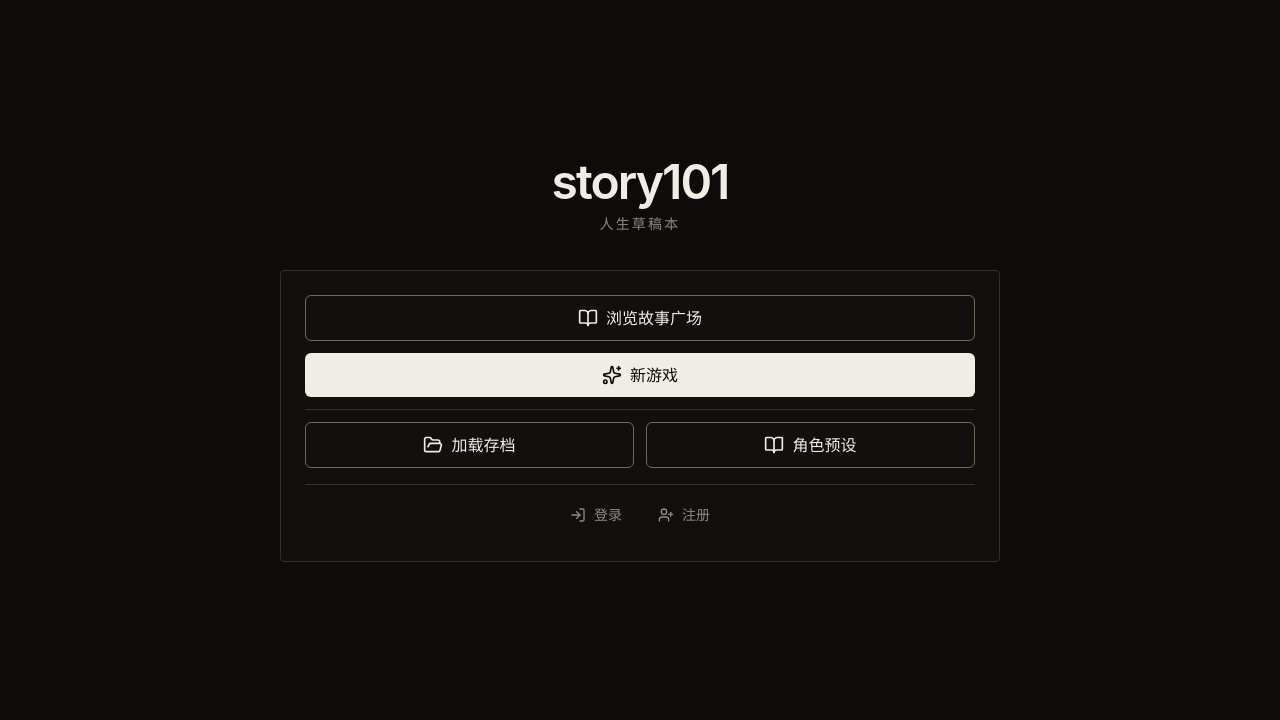
it: WelcomePage › Copy private ID feature › announces the one-time warning and copy success in one status region
Click the button "注册".
click(684, 515)  # box [642,493,726,537]
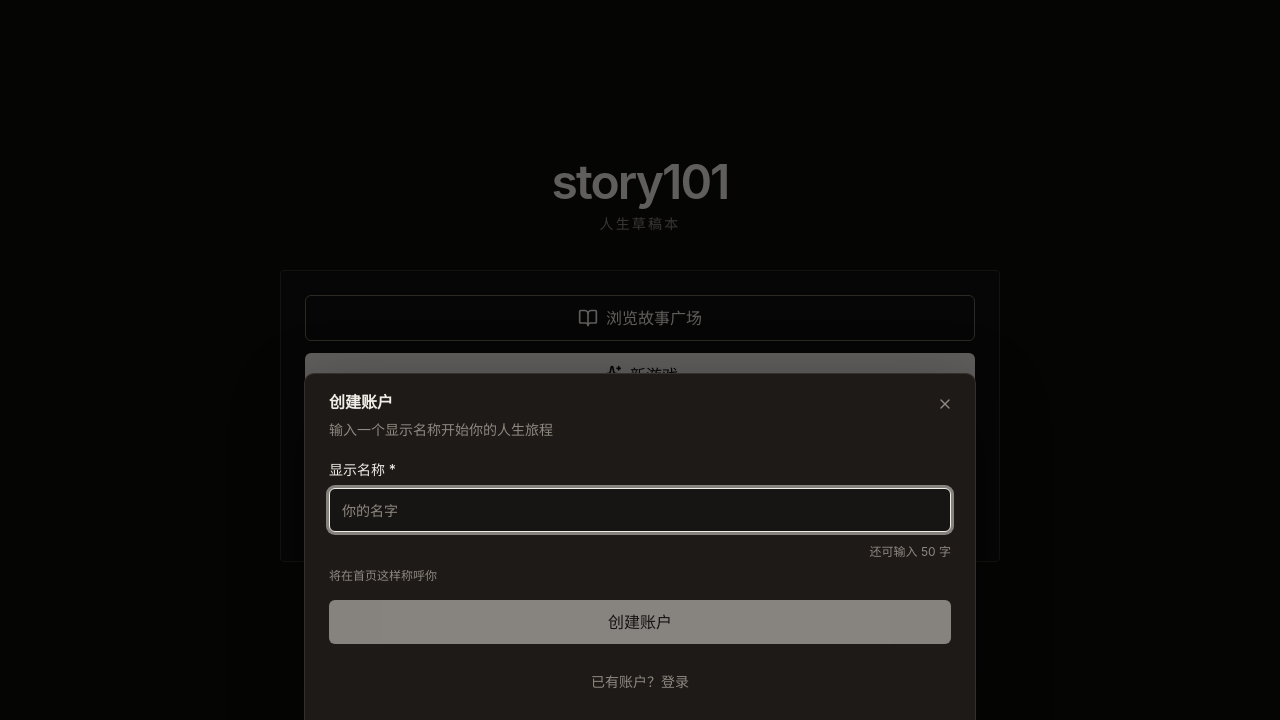
Type "TestUser" into the field with placeholder "你的名字".
click(640, 510); type("TestUser")  # box [329,488,951,532]
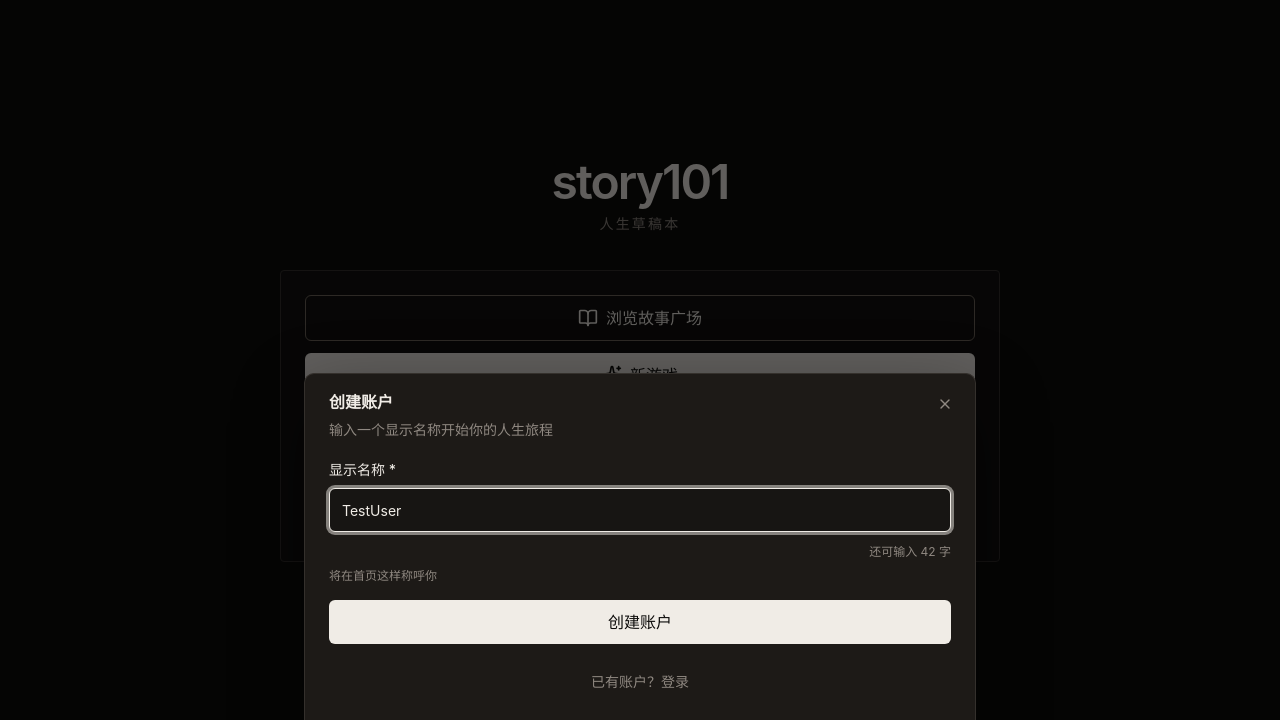
Click the button "创建账户".
click(640, 622)  # box [329,600,951,644]
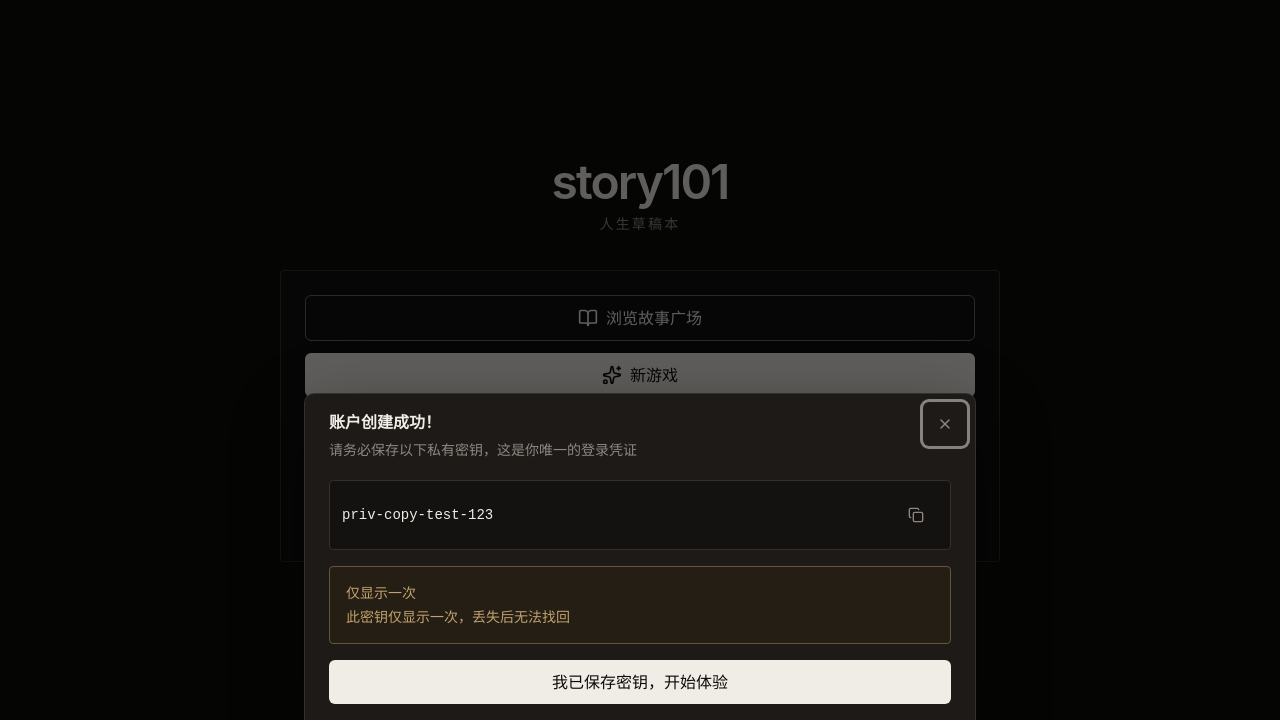
Now the text "priv-copy-test-123" is shown, box [342,507,493,523]
Now the number of messages is 1, box [346,584,570,625]
Now the message shows "此密钥仅显示一次，丢失后无法找回", box [346,608,570,625]
Click the button named "复制私有密钥".
click(916, 515)  # box [894,493,938,537]
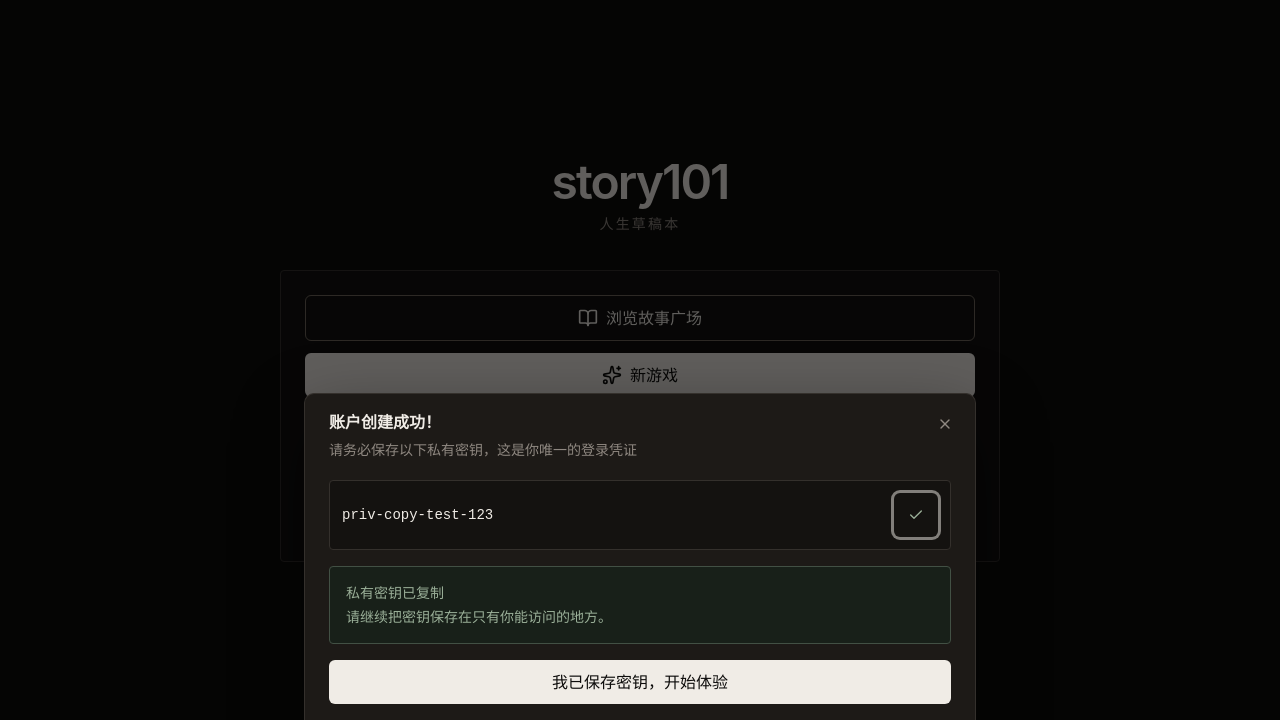
Now the number of messages is 1, box [346,584,612,625]
Now the message shows "私有密钥已复制", box [346,584,444,601]
